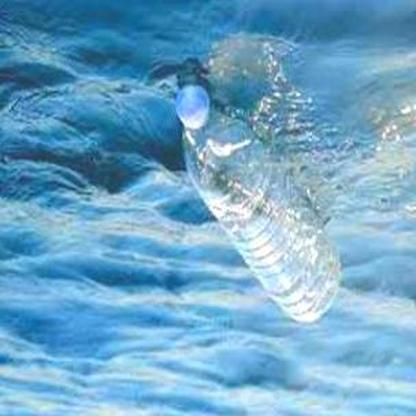plastic bottle: (175, 83, 343, 324)
